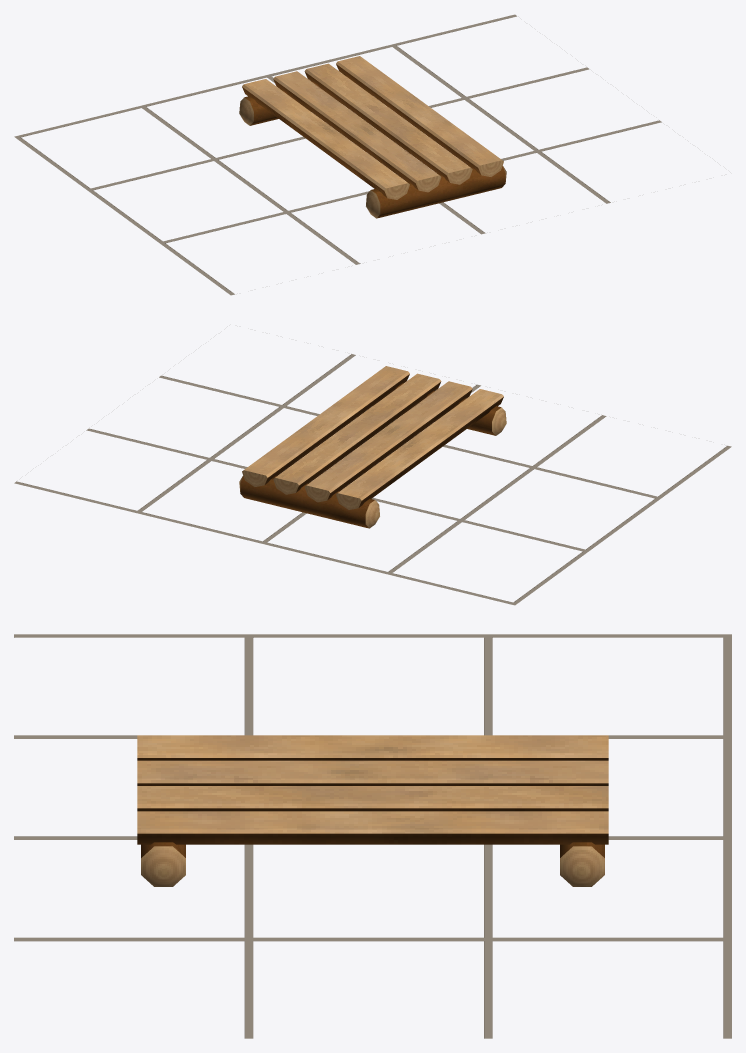
The model's file is Docks_Decking_Flat_1x2.glb.
3 views of the same model, one above another, from view 1: azimuth 30°, elevation 25°; view 2: azimuth 150°, elevation 25°; view 3: azimuth 270°, elevation 25° (orthographic). The views are drawn at different scales.
Parts seen in each view (by area): view 1: Docks_Decking_Flat_1x2, Floor; view 2: Docks_Decking_Flat_1x2, Floor; view 3: Docks_Decking_Flat_1x2, Floor.
Boxes of the visible parts, x1,y1,x2,y2 form: Docks_Decking_Flat_1x2: (239,56,506,218); Floor: (14,14,661,295); Docks_Decking_Flat_1x2: (239,366,506,528); Floor: (14,354,731,605); Docks_Decking_Flat_1x2: (137,735,608,886); Floor: (14,634,731,1038).
Size of the model in its own units: 400 by 25 by 300.
Materials: 4 (4 with a texture image).
